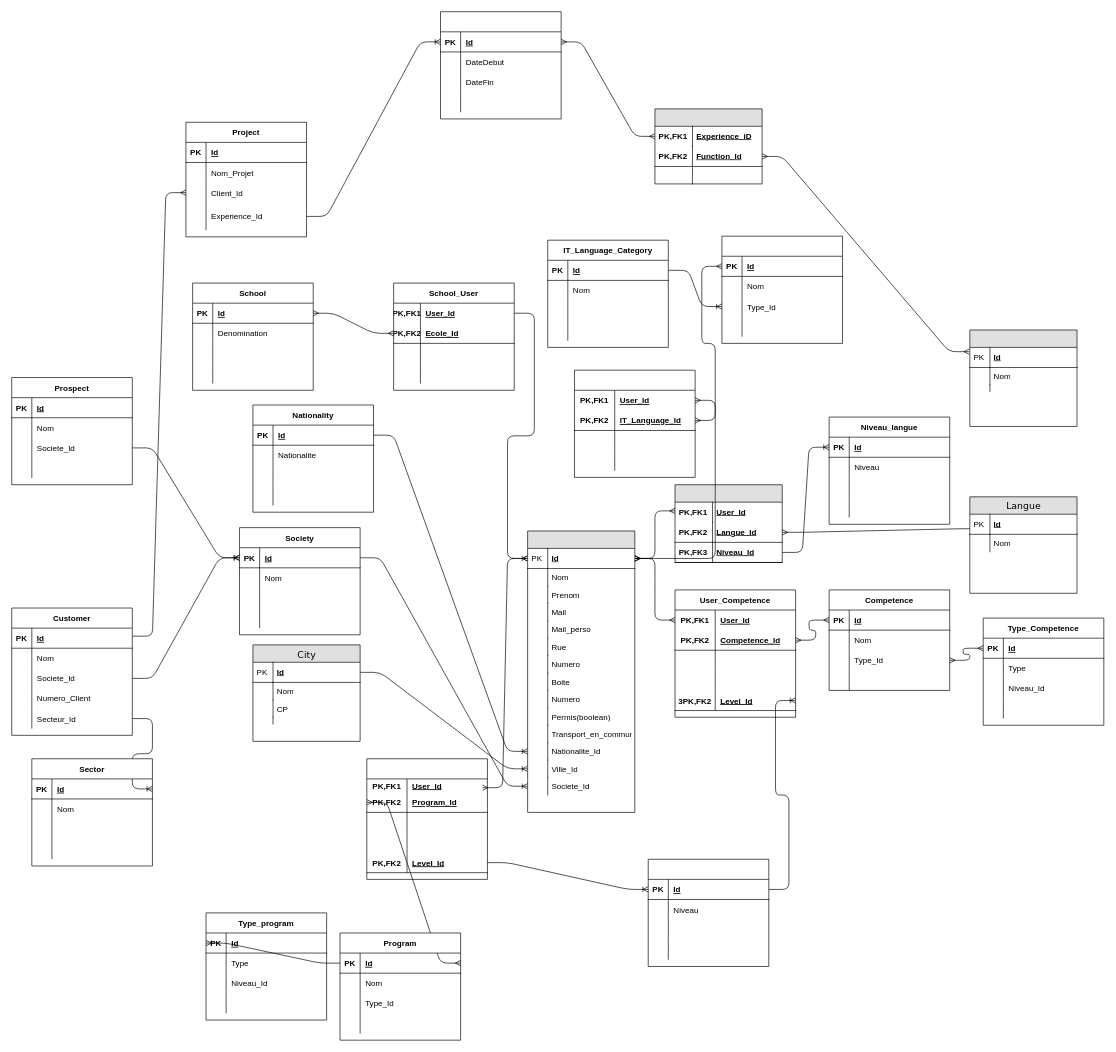
Image size: 1116x1052. Some labels were removed from this diagram. Each missing label, with the box of its shape:
Experience: (440, 11, 561, 119)
Experience_Function: (654, 108, 762, 184)
Function: (969, 329, 1077, 426)
IT_Language: (721, 236, 843, 343)
Level: (648, 859, 769, 966)
User: (527, 530, 635, 812)
User_IT_Langage: (574, 370, 695, 477)
User_Language: (674, 484, 782, 562)
User_Program: (366, 758, 487, 879)
